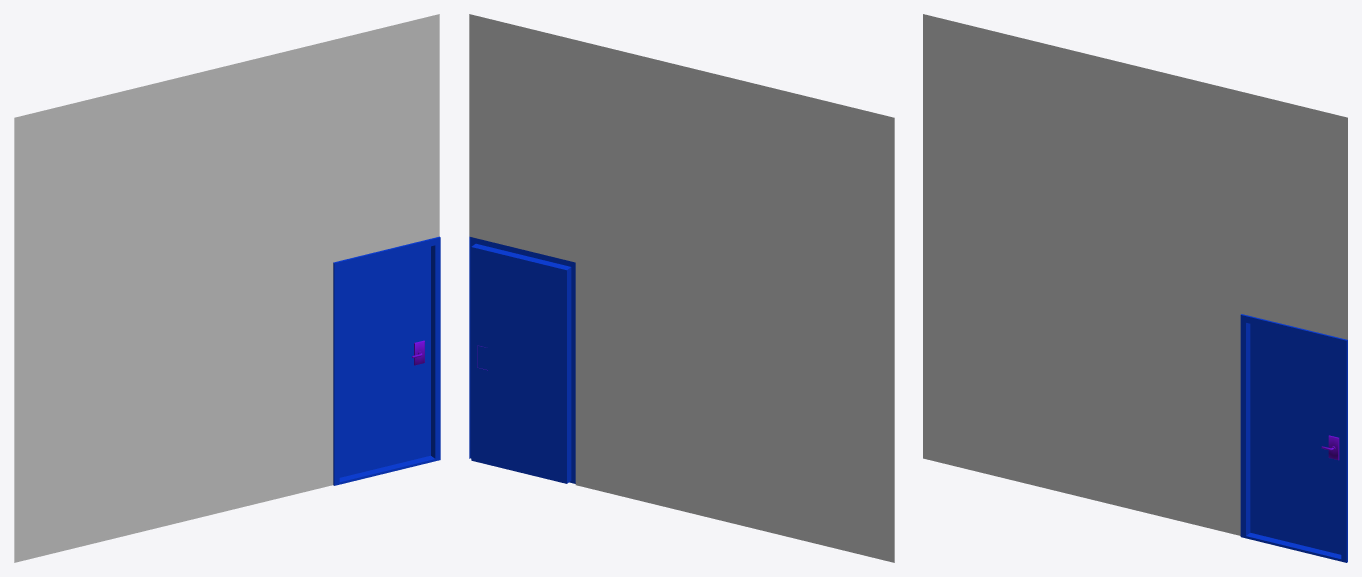
The model's file is SM_WallOffice_DoorMid.fbx.
3 renders of one model, left to right at view 1: azimuth 30°, elevation 25°; view 2: azimuth 150°, elevation 25°; view 3: azimuth 330°, elevation 25°, orthographic.
Visible parts, largest first — view 1: WallOffice_DoorMid; view 2: WallOffice_DoorMid; view 3: WallOffice_DoorMid.
Boxes of the visible parts, left/top/right/bottom form: WallOffice_DoorMid: left=14, top=14, right=440, bottom=562; WallOffice_DoorMid: left=469, top=14, right=894, bottom=562; WallOffice_DoorMid: left=923, top=14, right=1347, bottom=562.
Size of the model in its own units: 400 by 400 by 7.73.
